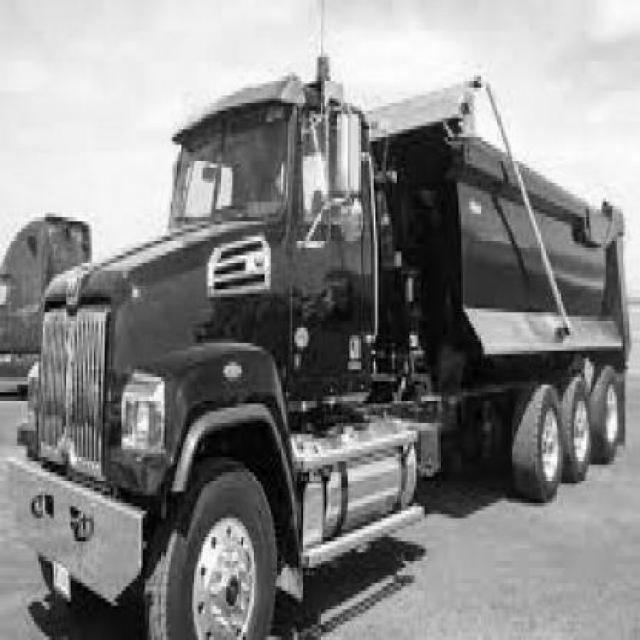Truck- Multi-Axle: (7, 55, 629, 640)
